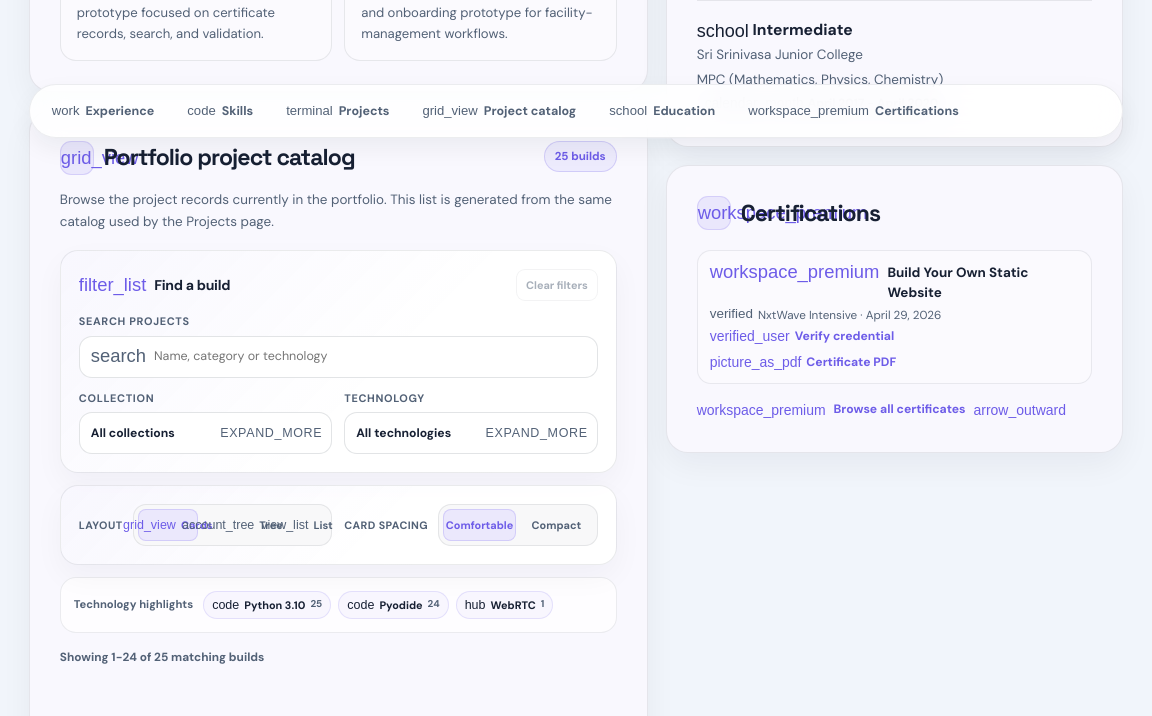
it: ResumePage › clears project filters from the separated filter panel
(page scrolled)
Step 1. Type "WebRTC" into the search field named "Search portfolio projects" → [370, 356], box [154,336,586,376]
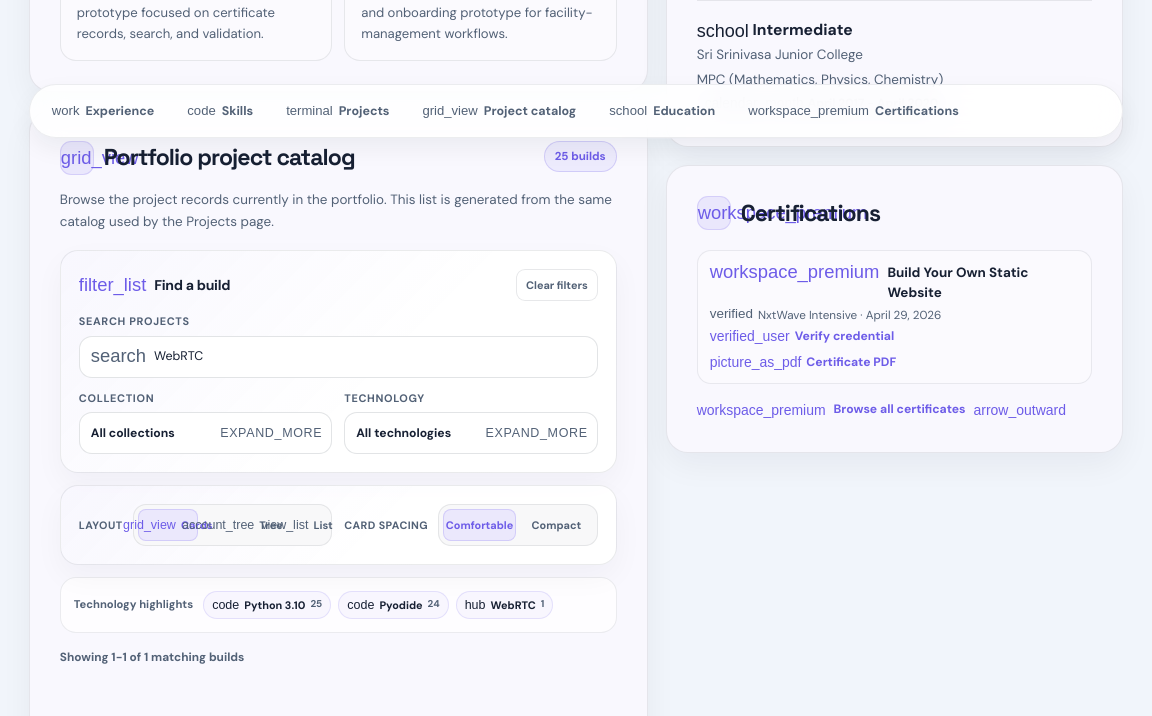
Now the text "Showing 1-1 of 1 matching builds" is shown, box [60,649,244,665]
Step 2. Click the button "Clear filters" → [557, 285], box [516,269,598,301]
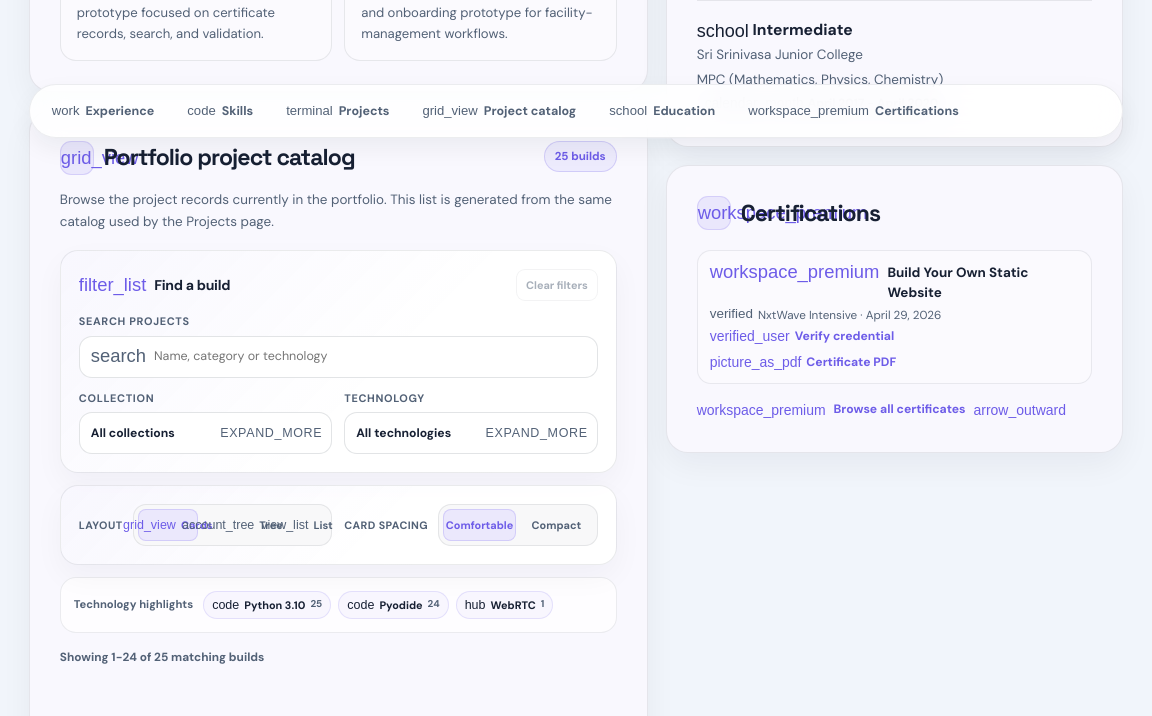
Now the search field named "Search portfolio projects" is empty, box [154,336,586,376]
Now the text "Showing 1-24 of 25 matching builds" is shown, box [60,649,264,665]
